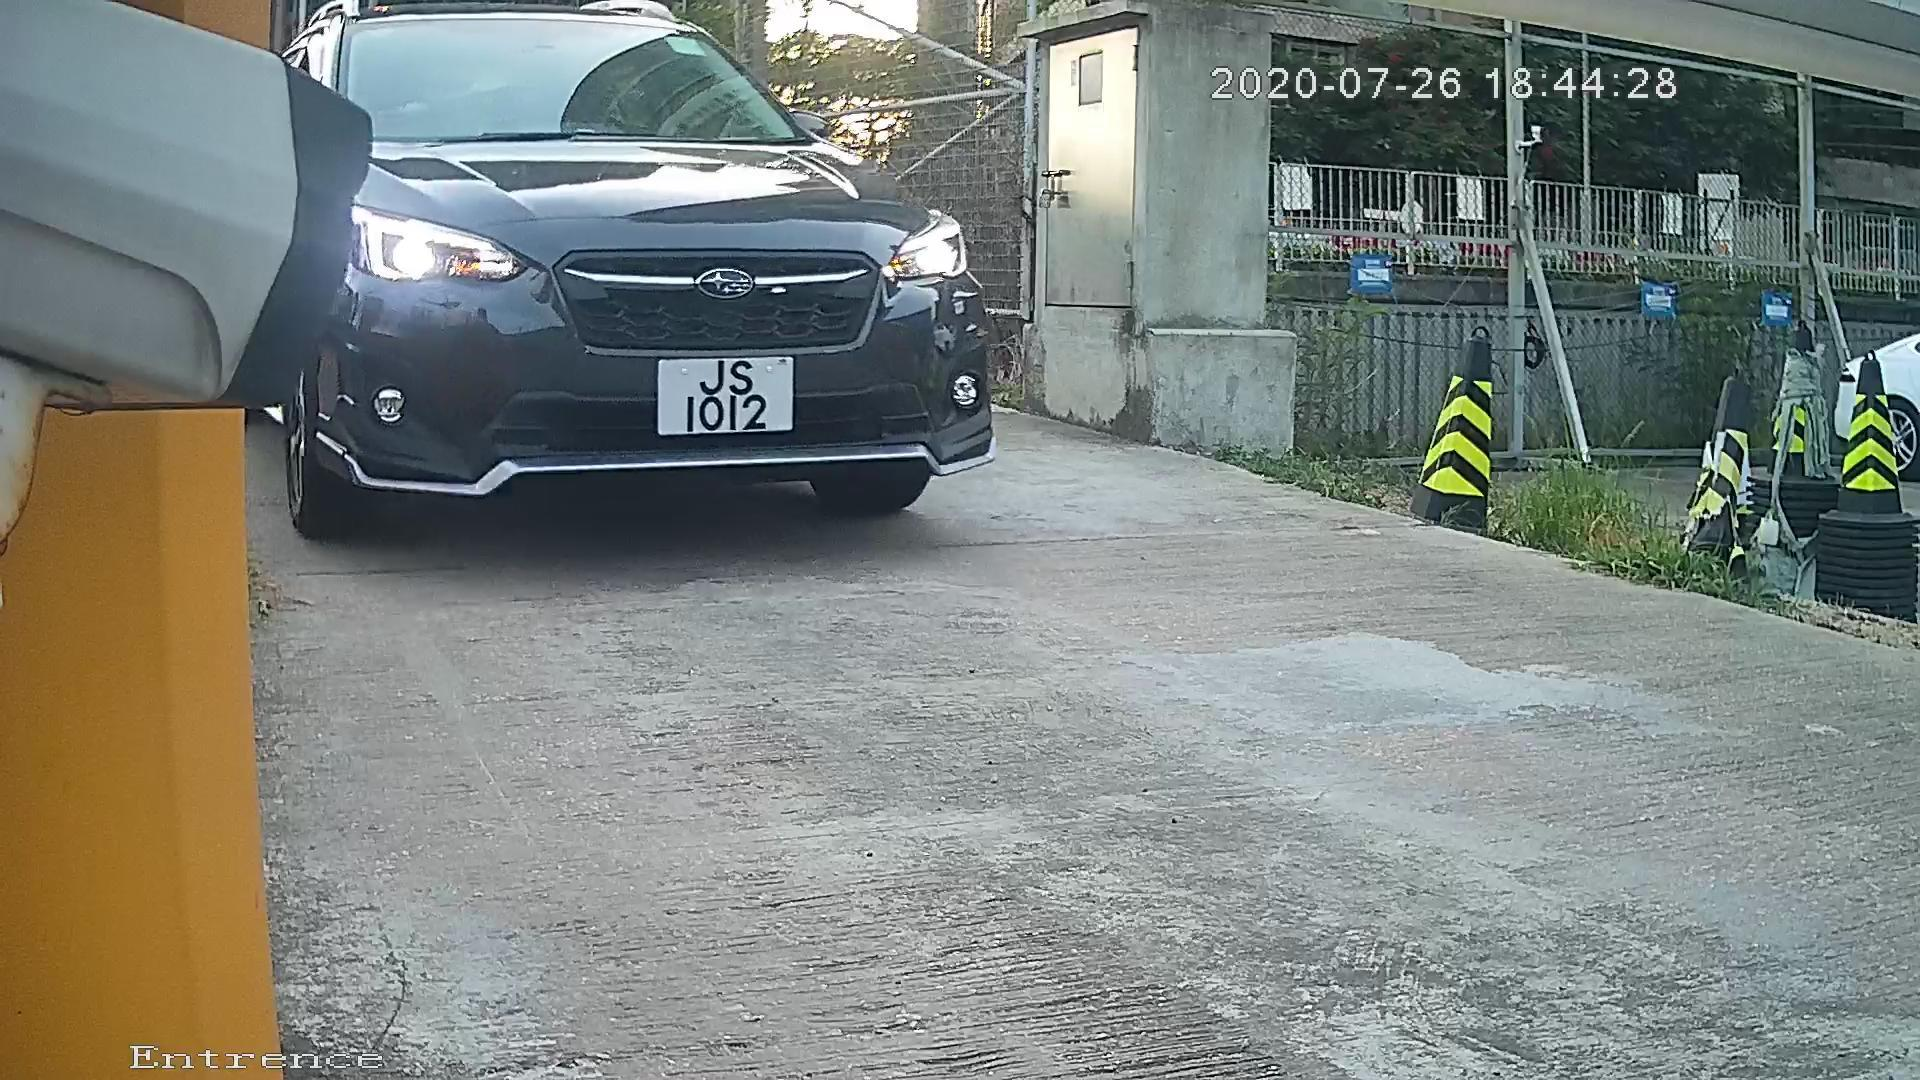License Plate: (626, 338, 798, 449)
